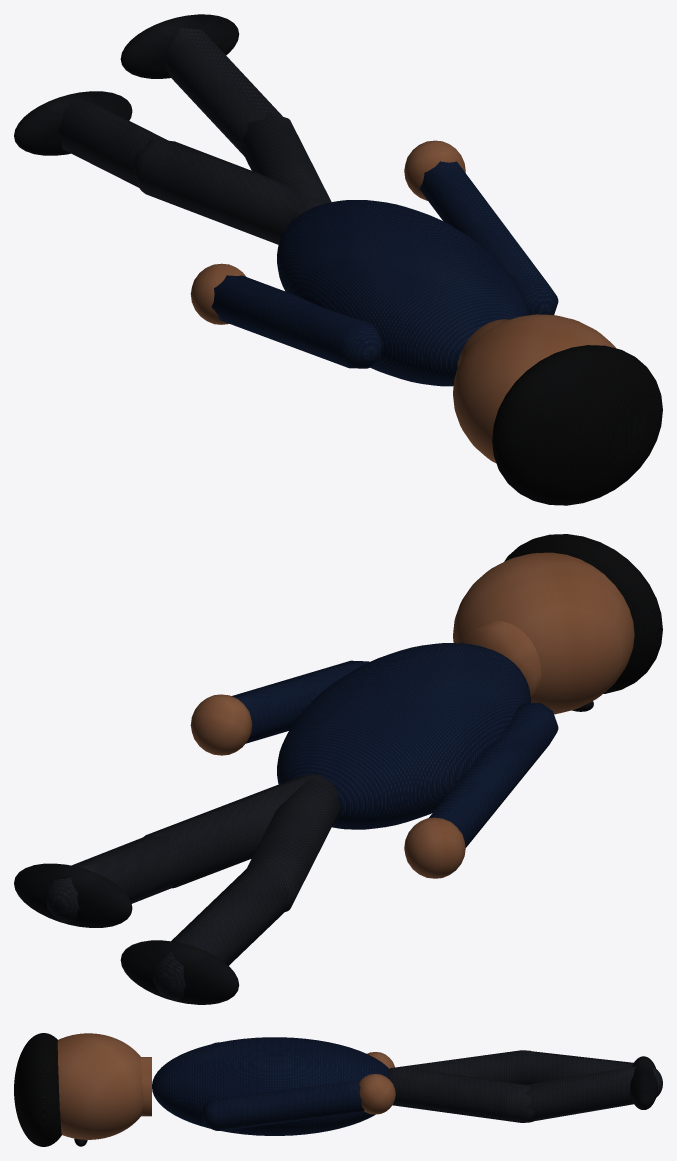
File: CHAR_MALE_HERO_V4_001.glb
3 renders of one model, top to bottom at view 1: azimuth 30°, elevation 25°; view 2: azimuth 150°, elevation 25°; view 3: azimuth 270°, elevation 25°, orthographic. The views are drawn at different scales.
Parts seen in each view (by area): view 1: char_male_hero_v4_001_torso, char_male_hero_v4_001_hair, char_male_hero_v4_001_leg_l, char_male_hero_v4_001_head, char_male_hero_v4_001_arm_l, char_male_hero_v4_001_arm_r, char_male_hero_v4_001_shin_r, char_male_hero_v4_001_shin_l, char_male_hero_v4_001_leg_r, char_male_hero_v4_001_shoe_r, char_male_hero_v4_001_shoe_l, char_male_hero_v4_001_hand_r (+1 smaller); view 2: char_male_hero_v4_001_torso, char_male_hero_v4_001_head, char_male_hero_v4_001_shin_l, char_male_hero_v4_001_arm_l, char_male_hero_v4_001_leg_r, char_male_hero_v4_001_leg_l, char_male_hero_v4_001_hair, char_male_hero_v4_001_shin_r, char_male_hero_v4_001_shoe_l, char_male_hero_v4_001_shoe_r, char_male_hero_v4_001_arm_r, char_male_hero_v4_001_hand_r (+2 smaller); view 3: char_male_hero_v4_001_torso, char_male_hero_v4_001_head, char_male_hero_v4_001_leg_r, char_male_hero_v4_001_arm_r, char_male_hero_v4_001_hair, char_male_hero_v4_001_shin_r, char_male_hero_v4_001_leg_l, char_male_hero_v4_001_shin_l, char_male_hero_v4_001_hand_r, char_male_hero_v4_001_shoe_r, char_male_hero_v4_001_neck, char_male_hero_v4_001_hand_l.
Part boxes in pixels (x1,y1,x2,y2): char_male_hero_v4_001_torso: (277,200,529,386); char_male_hero_v4_001_hair: (492,345,662,505); char_male_hero_v4_001_leg_l: (132,139,326,244); char_male_hero_v4_001_head: (453,314,616,462); char_male_hero_v4_001_arm_l: (211,275,382,368); char_male_hero_v4_001_arm_r: (419,161,558,315); char_male_hero_v4_001_shin_r: (165,27,283,156); char_male_hero_v4_001_shin_l: (58,98,167,191); char_male_hero_v4_001_leg_r: (239,112,331,222); char_male_hero_v4_001_shoe_r: (120,14,239,78); char_male_hero_v4_001_shoe_l: (14,91,132,155); char_male_hero_v4_001_hand_r: (404,140,465,200); char_male_hero_v4_001_torso: (277,643,530,829); char_male_hero_v4_001_head: (453,552,634,714); char_male_hero_v4_001_shin_l: (153,863,290,1001); char_male_hero_v4_001_arm_l: (428,702,558,847); char_male_hero_v4_001_leg_r: (144,774,340,888); char_male_hero_v4_001_leg_l: (246,773,340,911); char_male_hero_v4_001_hair: (504,534,662,693); char_male_hero_v4_001_shin_r: (46,835,184,922); char_male_hero_v4_001_shoe_l: (120,940,239,1004); char_male_hero_v4_001_shoe_r: (14,863,132,927); char_male_hero_v4_001_arm_r: (231,660,369,743); char_male_hero_v4_001_hand_r: (190,694,252,755); char_male_hero_v4_001_torso: (152,1037,389,1135); char_male_hero_v4_001_head: (57,1033,143,1139); char_male_hero_v4_001_leg_r: (387,1067,534,1122); char_male_hero_v4_001_arm_r: (202,1080,364,1130); char_male_hero_v4_001_hair: (14,1033,61,1146); char_male_hero_v4_001_shin_r: (523,1066,662,1120); char_male_hero_v4_001_leg_l: (388,1050,535,1105); char_male_hero_v4_001_shin_l: (528,1051,662,1083); char_male_hero_v4_001_hand_r: (359,1074,395,1114); char_male_hero_v4_001_shoe_r: (630,1057,657,1109); char_male_hero_v4_001_neck: (140,1057,151,1116); char_male_hero_v4_001_hand_l: (367,1052,394,1068).
Size of the model in its own units: 0.55 by 0.2996 by 1.74.
Materials: 5 (5 with a texture image).
